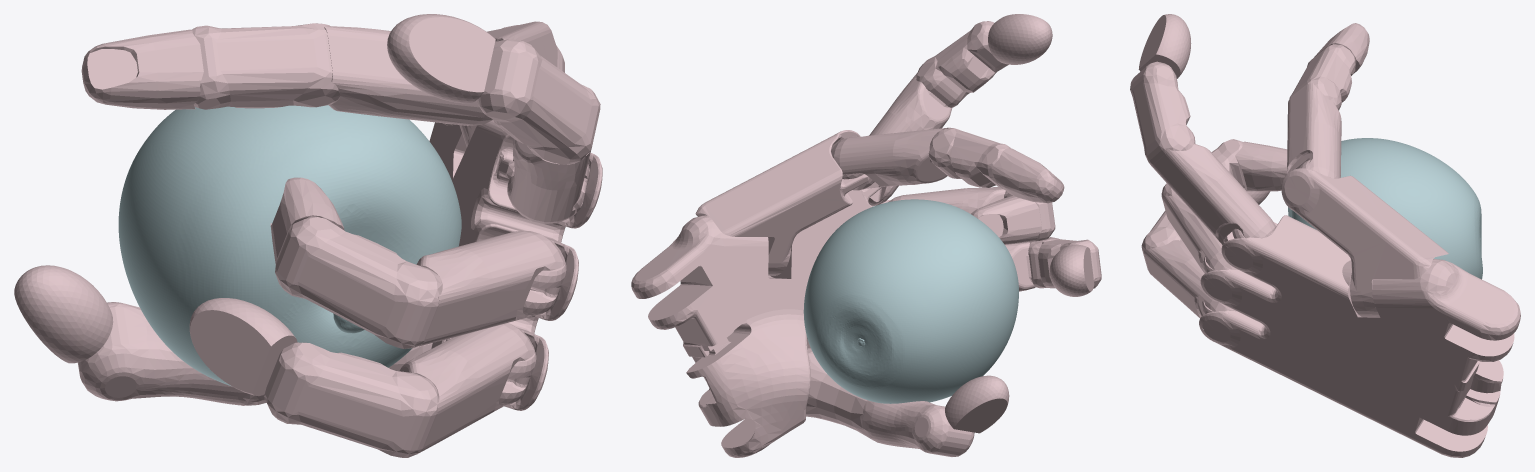
The model's file is grasp_1.glb.
3 renders of one model, left to right at view 1: azimuth 30°, elevation 25°; view 2: azimuth 150°, elevation 25°; view 3: azimuth 270°, elevation 25°, orthographic. The views are drawn at different scales.
Visible parts, largest first — view 1: world; view 2: world; view 3: world.
Boxes of the visible parts, x1,y1,x2,y2 form: world: (14,14,602,457); world: (631,14,1101,457); world: (1130,14,1520,457).
Size of the model in its own units: 0.1515 by 0.1492 by 0.1443.
